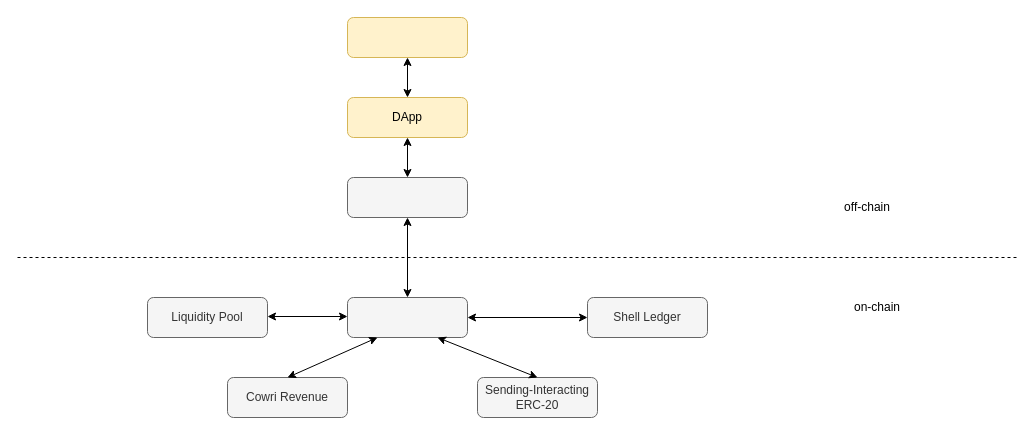
This 1036x435 diagram has some shape labels left out. Here are the shapes that lost their labels. From the top down, the centre of each, then its label:
point 407,37: User
point 407,197: Cowri-sdk
point 407,317: Seequencer
